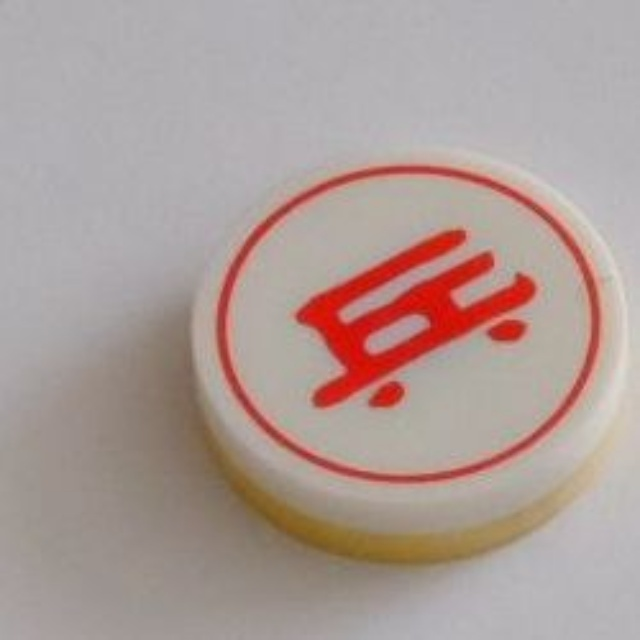red_chot: (186, 137, 631, 566)
